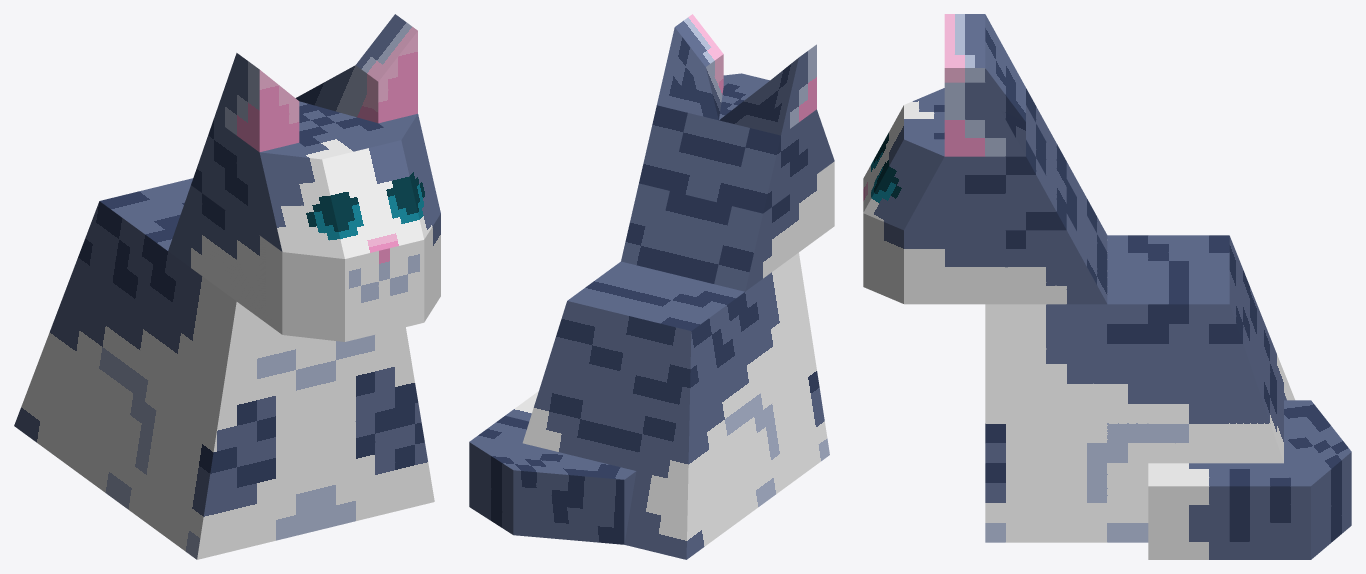
File: cat.glb
3 views of the same model, side by side, from view 1: azimuth 30°, elevation 25°; view 2: azimuth 150°, elevation 25°; view 3: azimuth 270°, elevation 25° (orthographic). The views are drawn at different scales.
Parts seen in each view (by area): view 1: body_1, head_5, ear_r_2, ear_r_6; view 2: body_1, head_5, tail1_0, ear_r_2, ear_r_6, tail2_3; view 3: body_1, head_5, tail2_3, tail3_4, tail1_0, ear_r_6, ear_r_2.
Boxes of the visible parts, x1,y1,x2,y2 form: body_1: (14,178,434,559); head_5: (168,101,440,341); ear_r_2: (295,14,417,123); ear_r_6: (214,53,299,152); body_1: (522,252,829,559); head_5: (621,73,834,291); tail1_0: (469,442,636,544); ear_r_2: (657,14,723,120); ear_r_6: (719,44,816,135); tail2_3: (469,415,531,445); body_1: (985,235,1294,542); head_5: (863,88,1107,304); tail2_3: (1229,452,1310,559); tail3_4: (1148,463,1229,559); tail1_0: (1284,400,1351,559); ear_r_6: (944,14,1025,121); ear_r_2: (944,82,1025,156).
Size of the model in its own units: 0.3702 by 0.6347 by 0.6347.
Materials: 2 (2 with a texture image).
